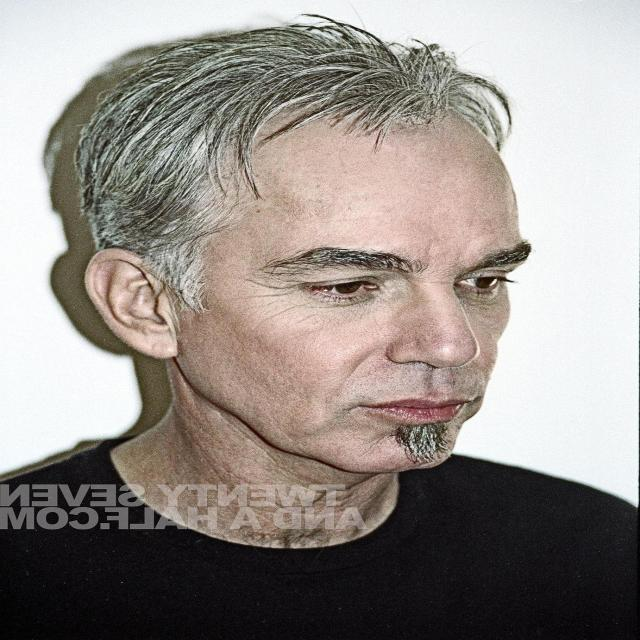no-earmuff: (63, 240, 206, 380)
